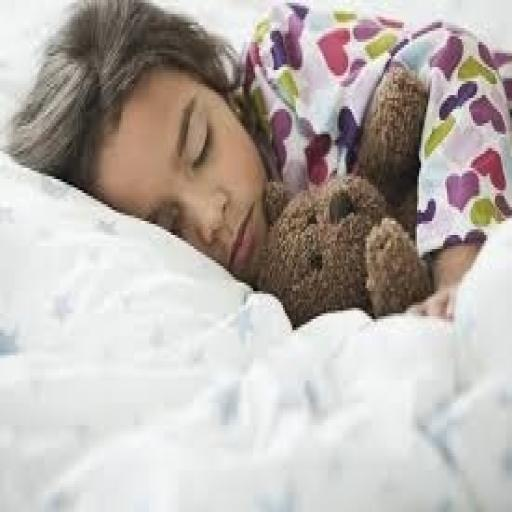sleeping: (4, 0, 510, 325)
